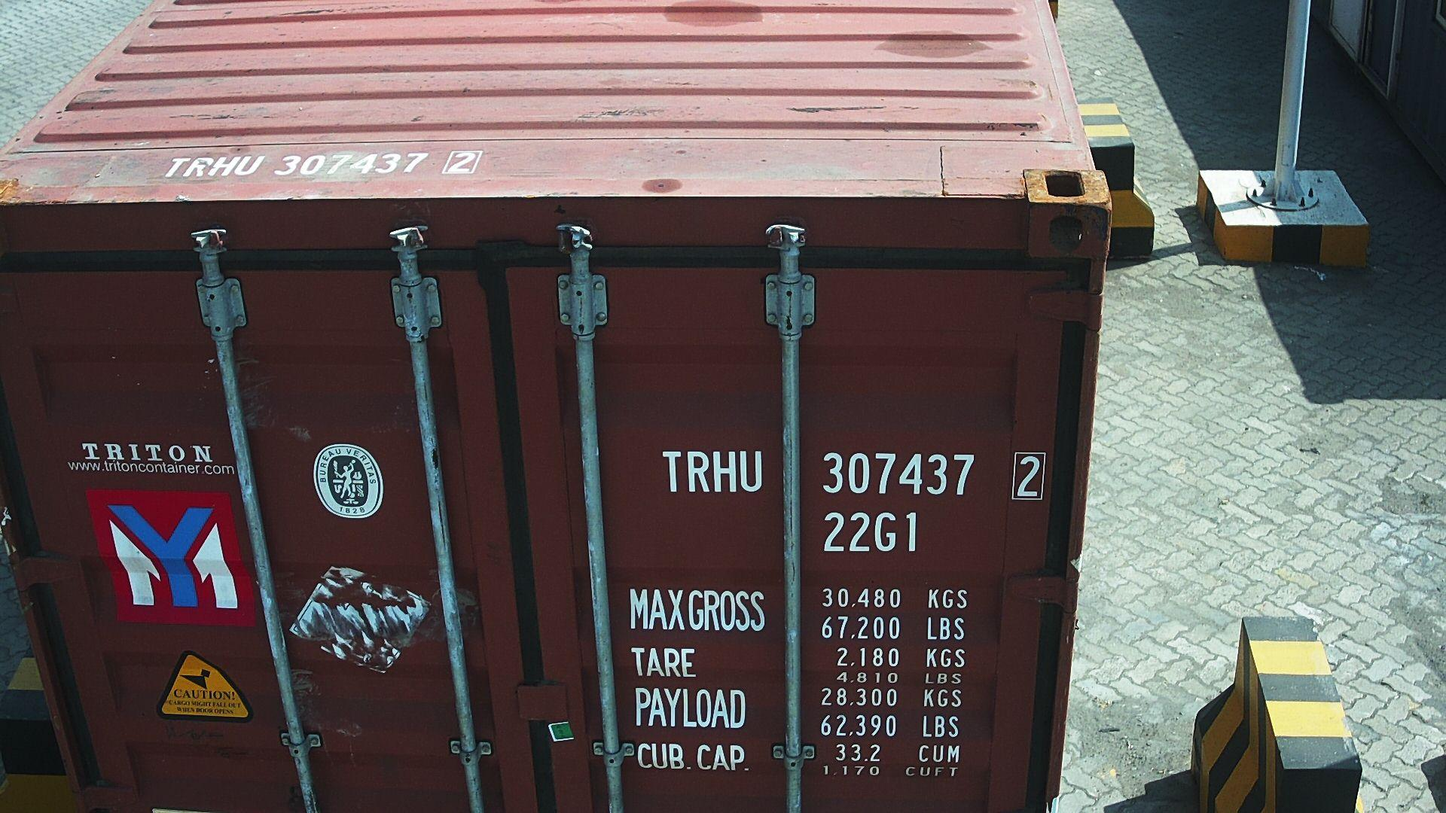container-numbers: (659, 445, 1056, 502), (151, 148, 489, 181), (821, 508, 923, 556)
